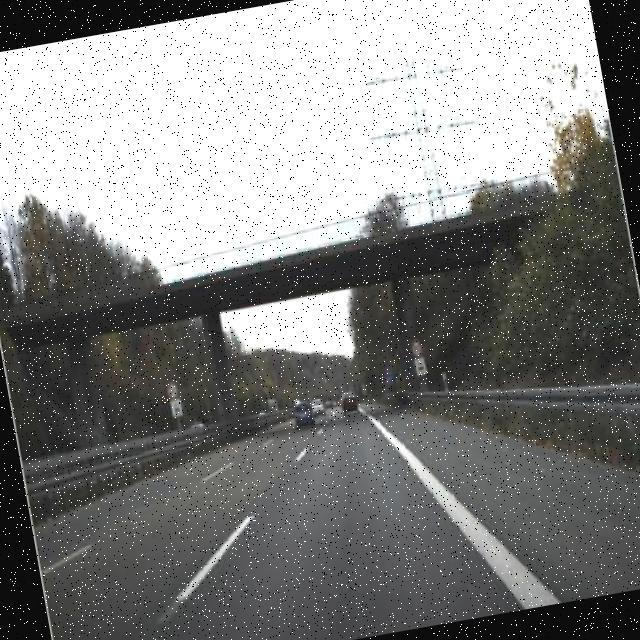Ograniczenie predkosci do 80: (164, 378, 182, 402), (408, 336, 426, 360)
